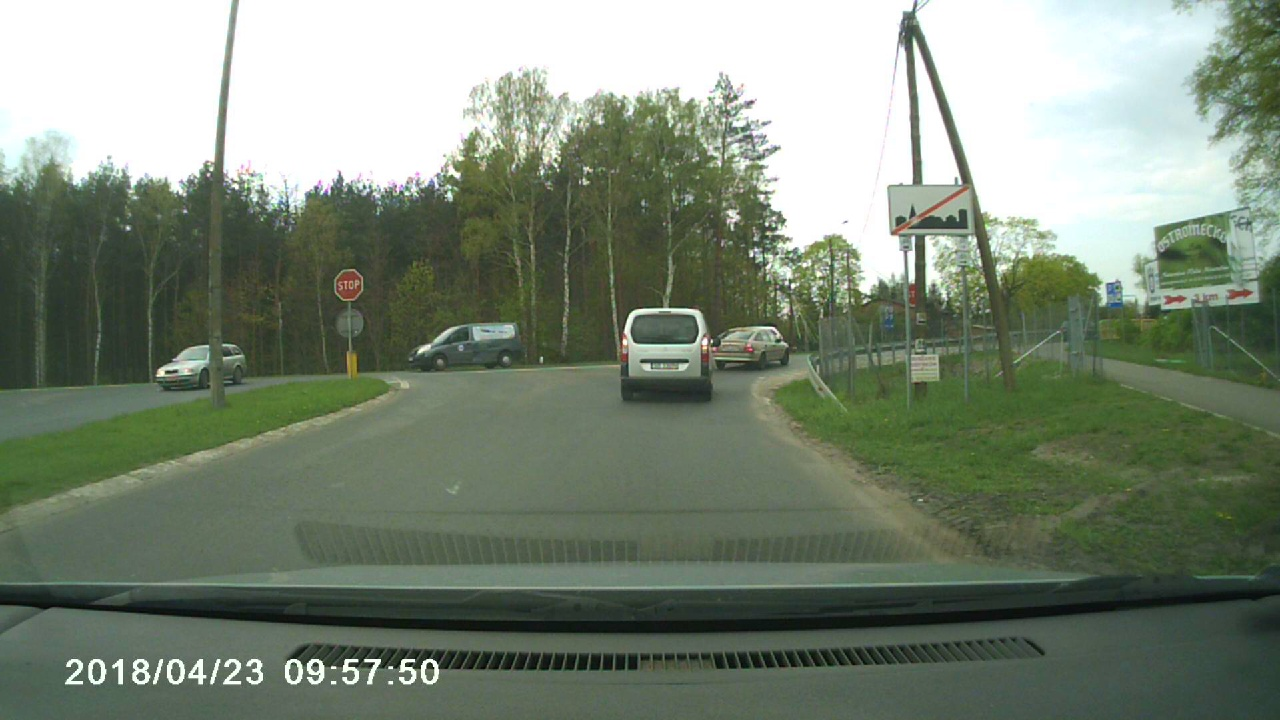B20: (333, 268, 364, 302)
D43: (887, 184, 977, 236)
